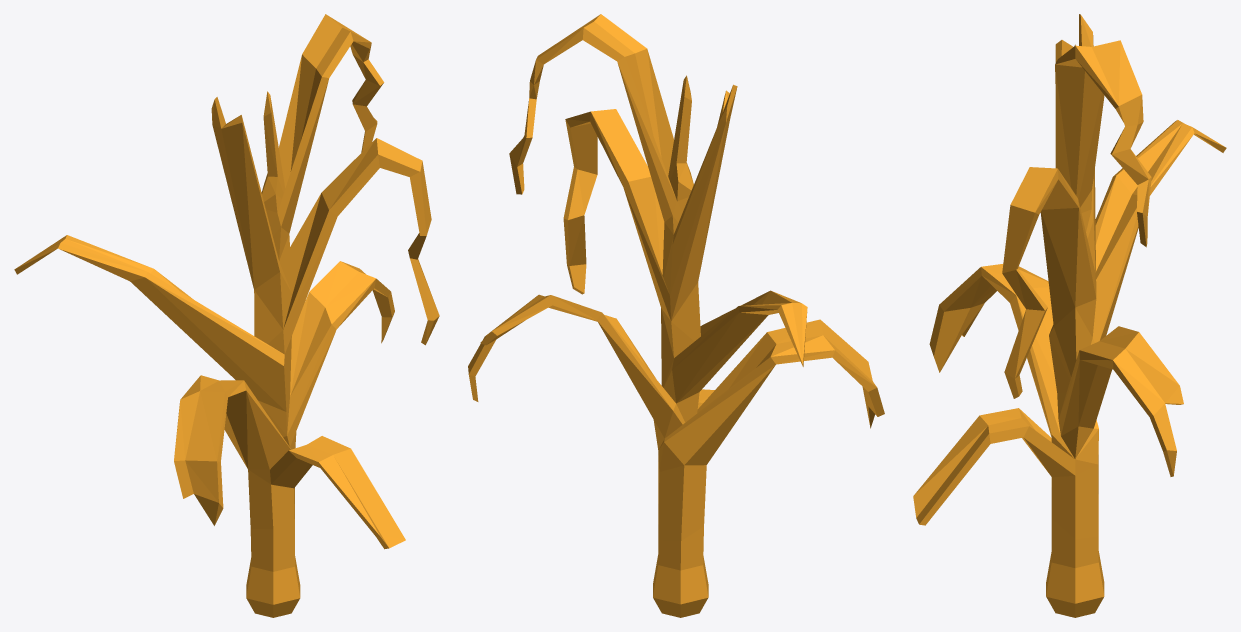
Rendered from SM_Leek_Dead_A.fbx.
3 renders of one model, left to right at view 1: azimuth 30°, elevation 25°; view 2: azimuth 150°, elevation 25°; view 3: azimuth 270°, elevation 25°, orthographic. The views are drawn at different scales.
Parts seen in each view (by area): view 1: leek-dead-a; view 2: leek-dead-a; view 3: leek-dead-a.
Boxes of the visible parts, <box> form: leek-dead-a: <box>14,14,439,617</box>; leek-dead-a: <box>468,14,884,617</box>; leek-dead-a: <box>913,14,1226,617</box>.
Bounding box in the file's own units: 0.4223 × 0.6464 × 0.3009.
